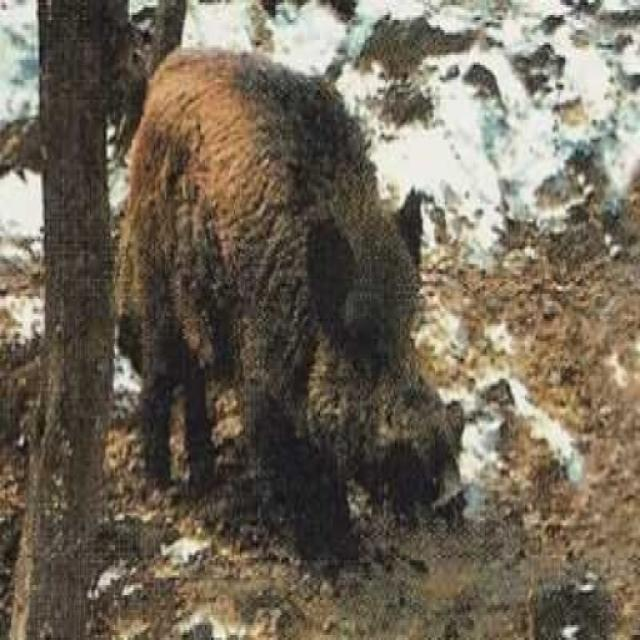pig: (36, 27, 510, 548)
